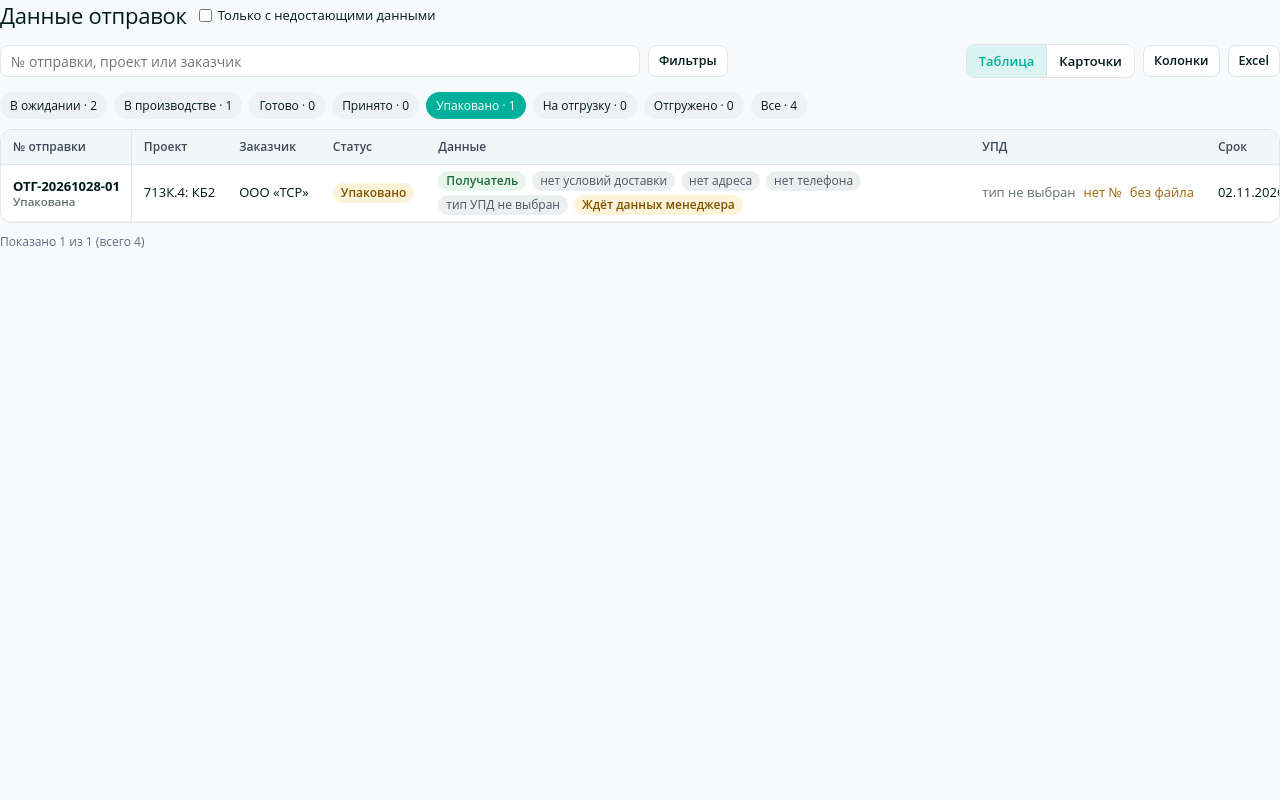
Test: ShipmentDataPage («Данные отправок») › window: «Адрес» block (address, receiver, phone) apart from «ТК и УПД»; the carrier only for a carrier delivery
Click the text "ОТГ-20261028-01" at (66, 186), box [13, 178, 120, 195]
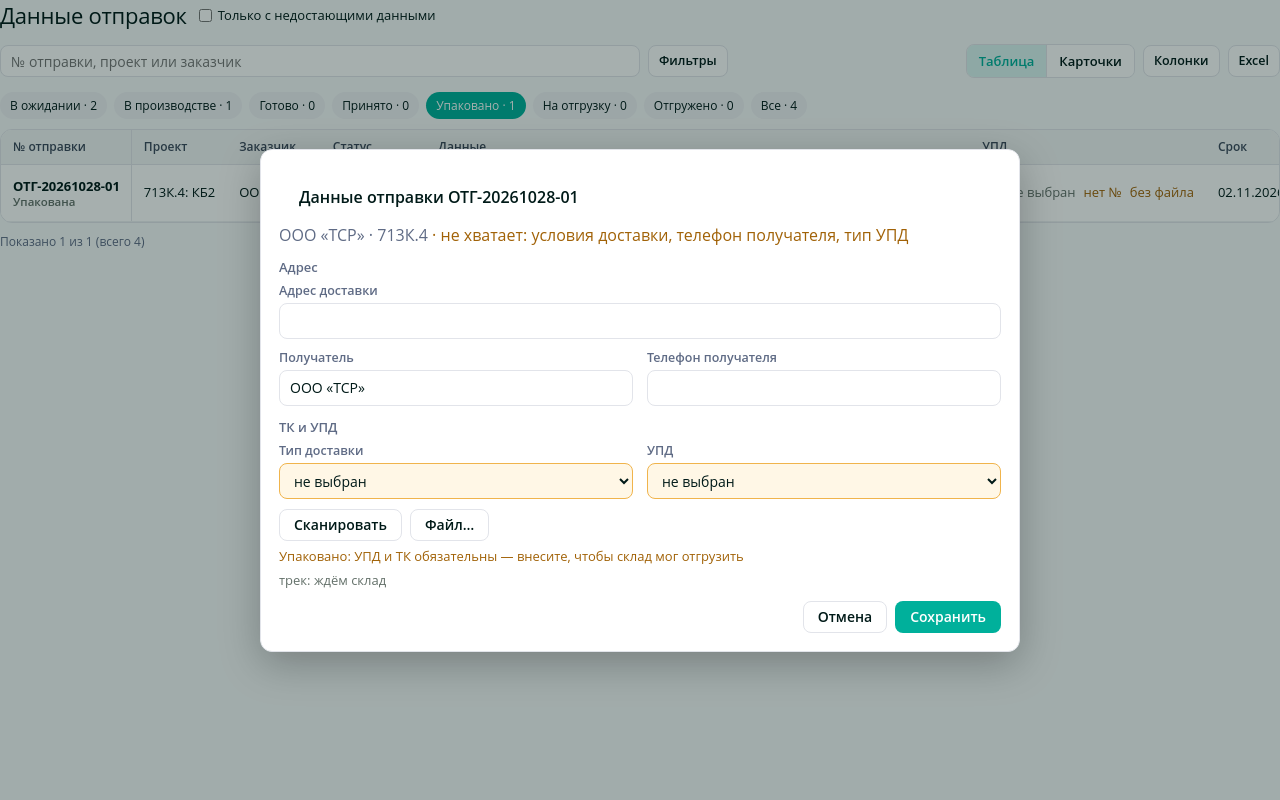
Expected: the text "· не хватает: условия доставки, телефон получателя, тип УПД" is shown, [428, 224, 908, 246]
Expected: the heading "Адрес" is shown, [279, 258, 318, 276]
Expected: the heading "ТК и УПД" is shown, [279, 418, 338, 436]
Select "Доставка ТК" in the dropdown labelled "Тип доставки" at (456, 480), box [279, 462, 633, 498]
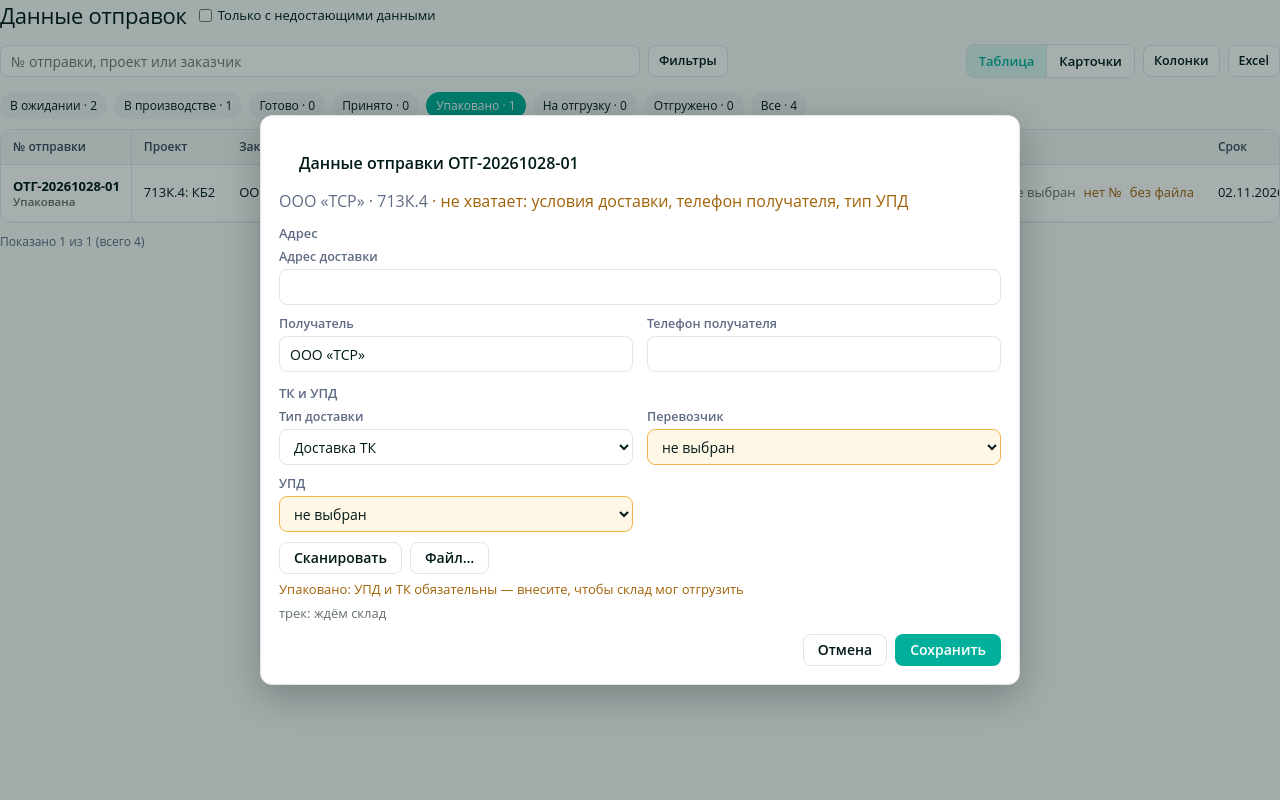
Expected: the dropdown labelled "Перевозчик" is shown, [647, 429, 1001, 465]
Select "Самовывоз" in the dropdown labelled "Тип доставки" at (456, 447), box [279, 429, 633, 465]
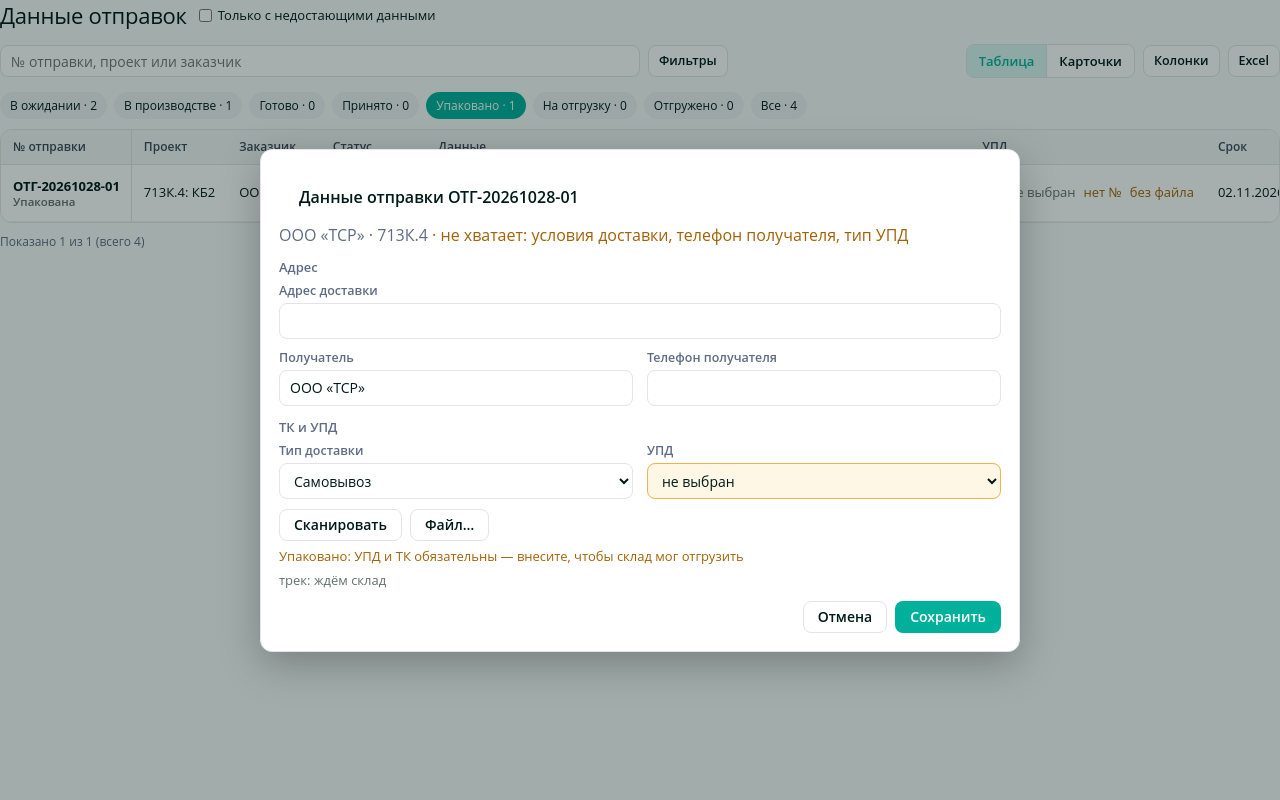
Expected: the label labelled "Перевозчик" is gone
// «Без УПД» не просит ни номера, ни даты, ни файла.
Select "Бумага" in the dropdown named "Тип УПД" at (824, 480), box [647, 462, 1001, 498]
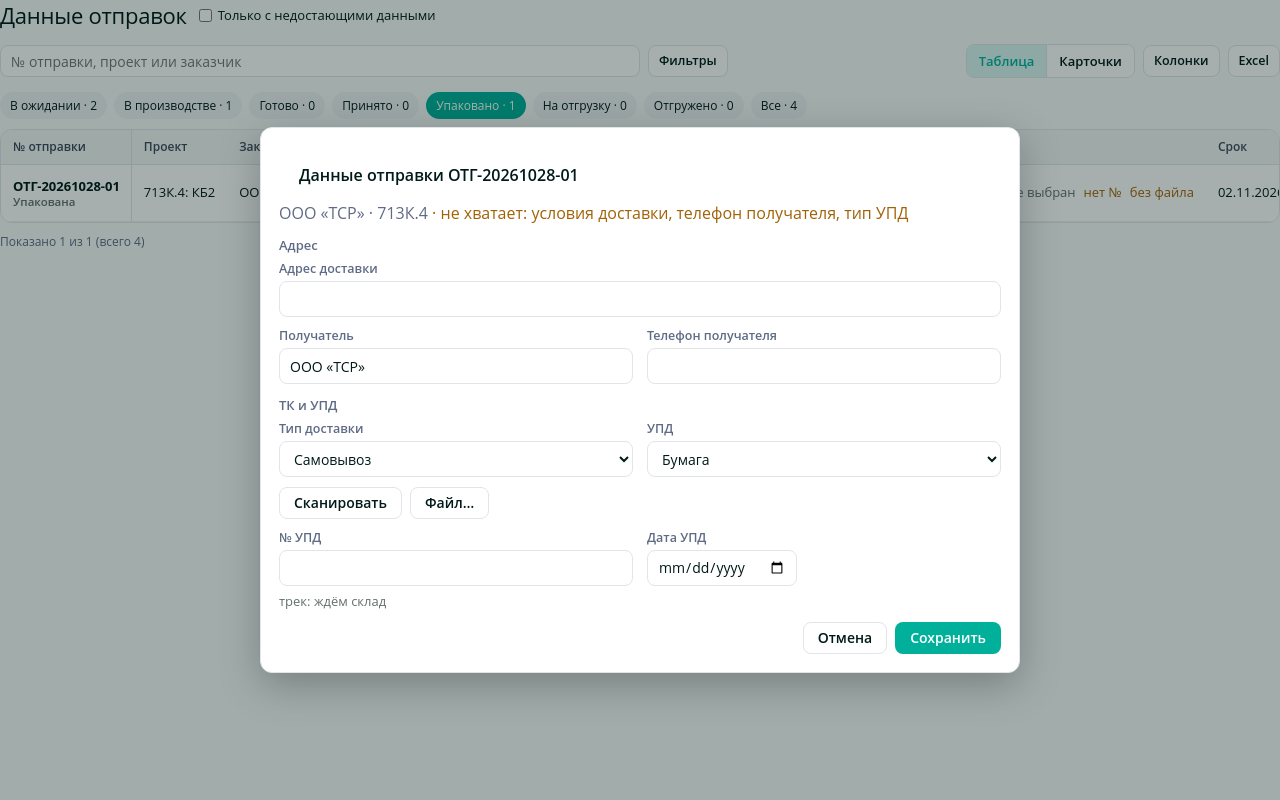
Expected: the element named "Файл УПД" is shown, [279, 487, 489, 519]
Expected: the field labelled "№ УПД" is shown, [279, 550, 633, 586]
Select "Без УПД" in the dropdown named "Тип УПД" at (824, 459), box [647, 441, 1001, 477]
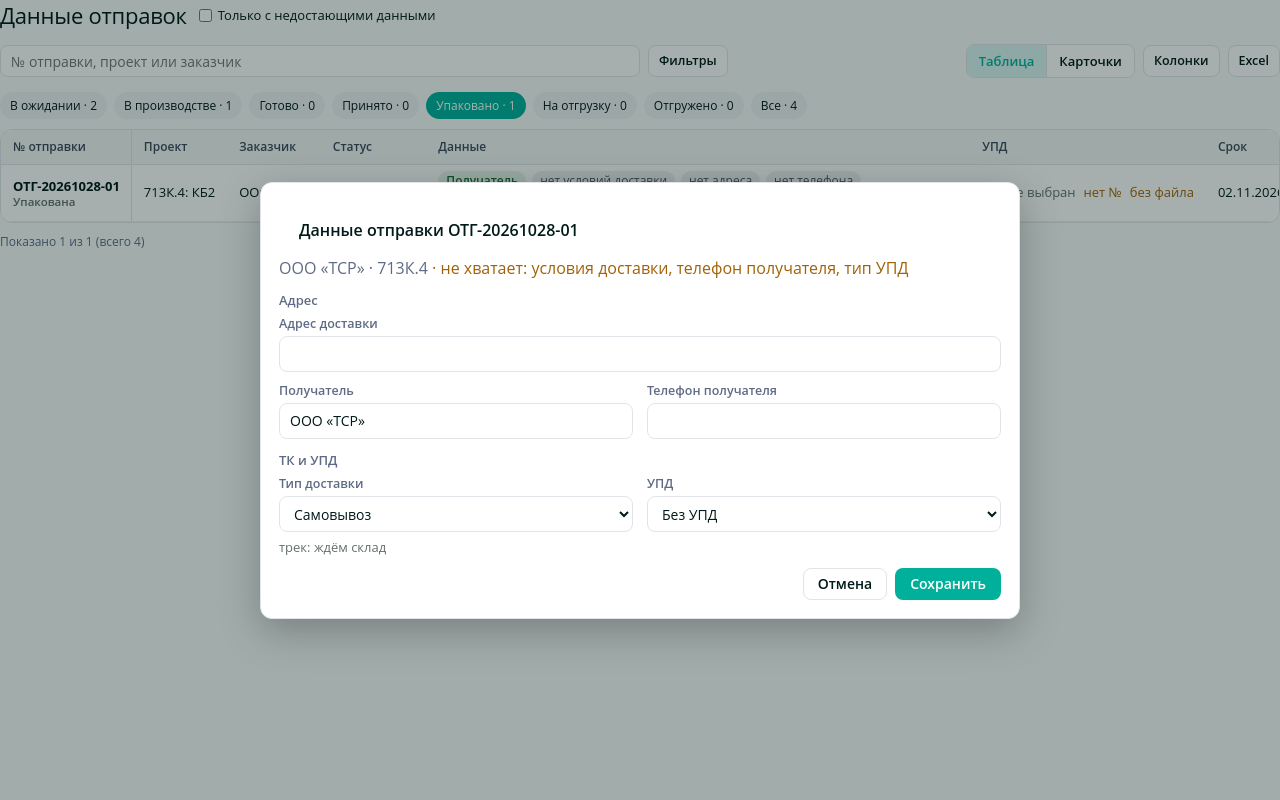
Expected: the label labelled "№ УПД" is gone
